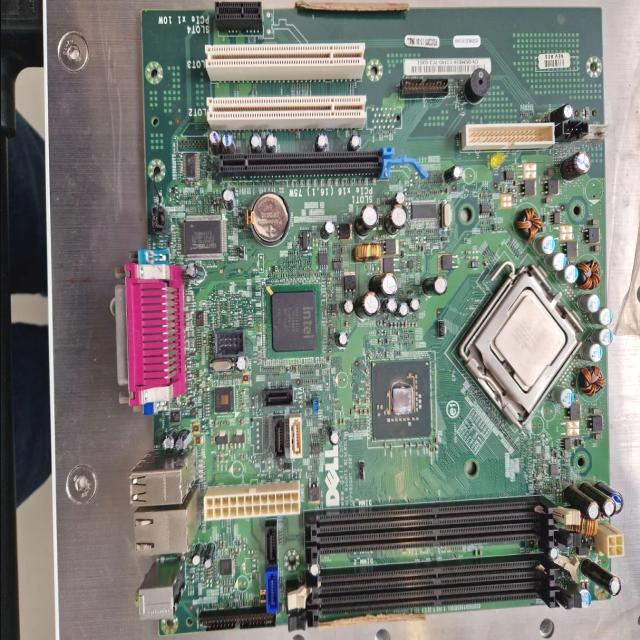A: (353, 242, 380, 261)
C: (353, 203, 378, 236), (383, 204, 407, 234), (368, 272, 396, 297), (354, 292, 379, 318), (422, 276, 446, 296), (443, 165, 461, 184), (381, 296, 396, 314), (320, 220, 334, 239), (326, 426, 340, 444), (346, 134, 360, 152), (222, 133, 234, 153), (222, 190, 234, 210), (314, 133, 326, 152), (339, 299, 354, 314), (394, 302, 408, 318), (264, 134, 276, 152), (248, 133, 260, 151), (335, 332, 348, 348), (406, 298, 420, 312), (235, 356, 247, 370), (394, 192, 404, 204)
